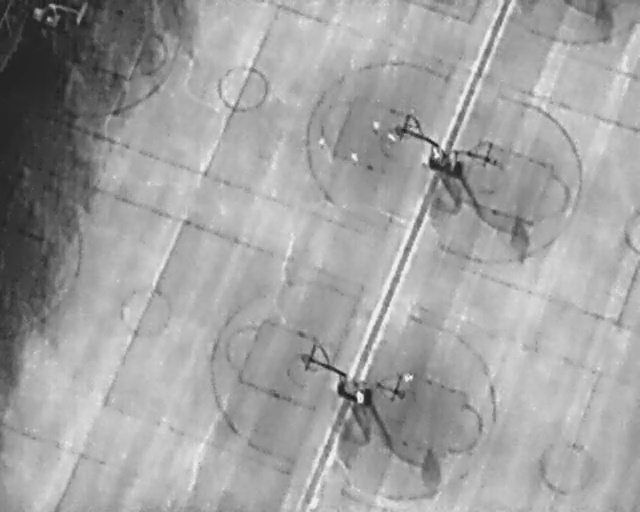Person: (385, 129, 397, 146), (350, 150, 360, 168), (371, 120, 382, 135), (403, 370, 415, 383), (317, 136, 327, 151)
